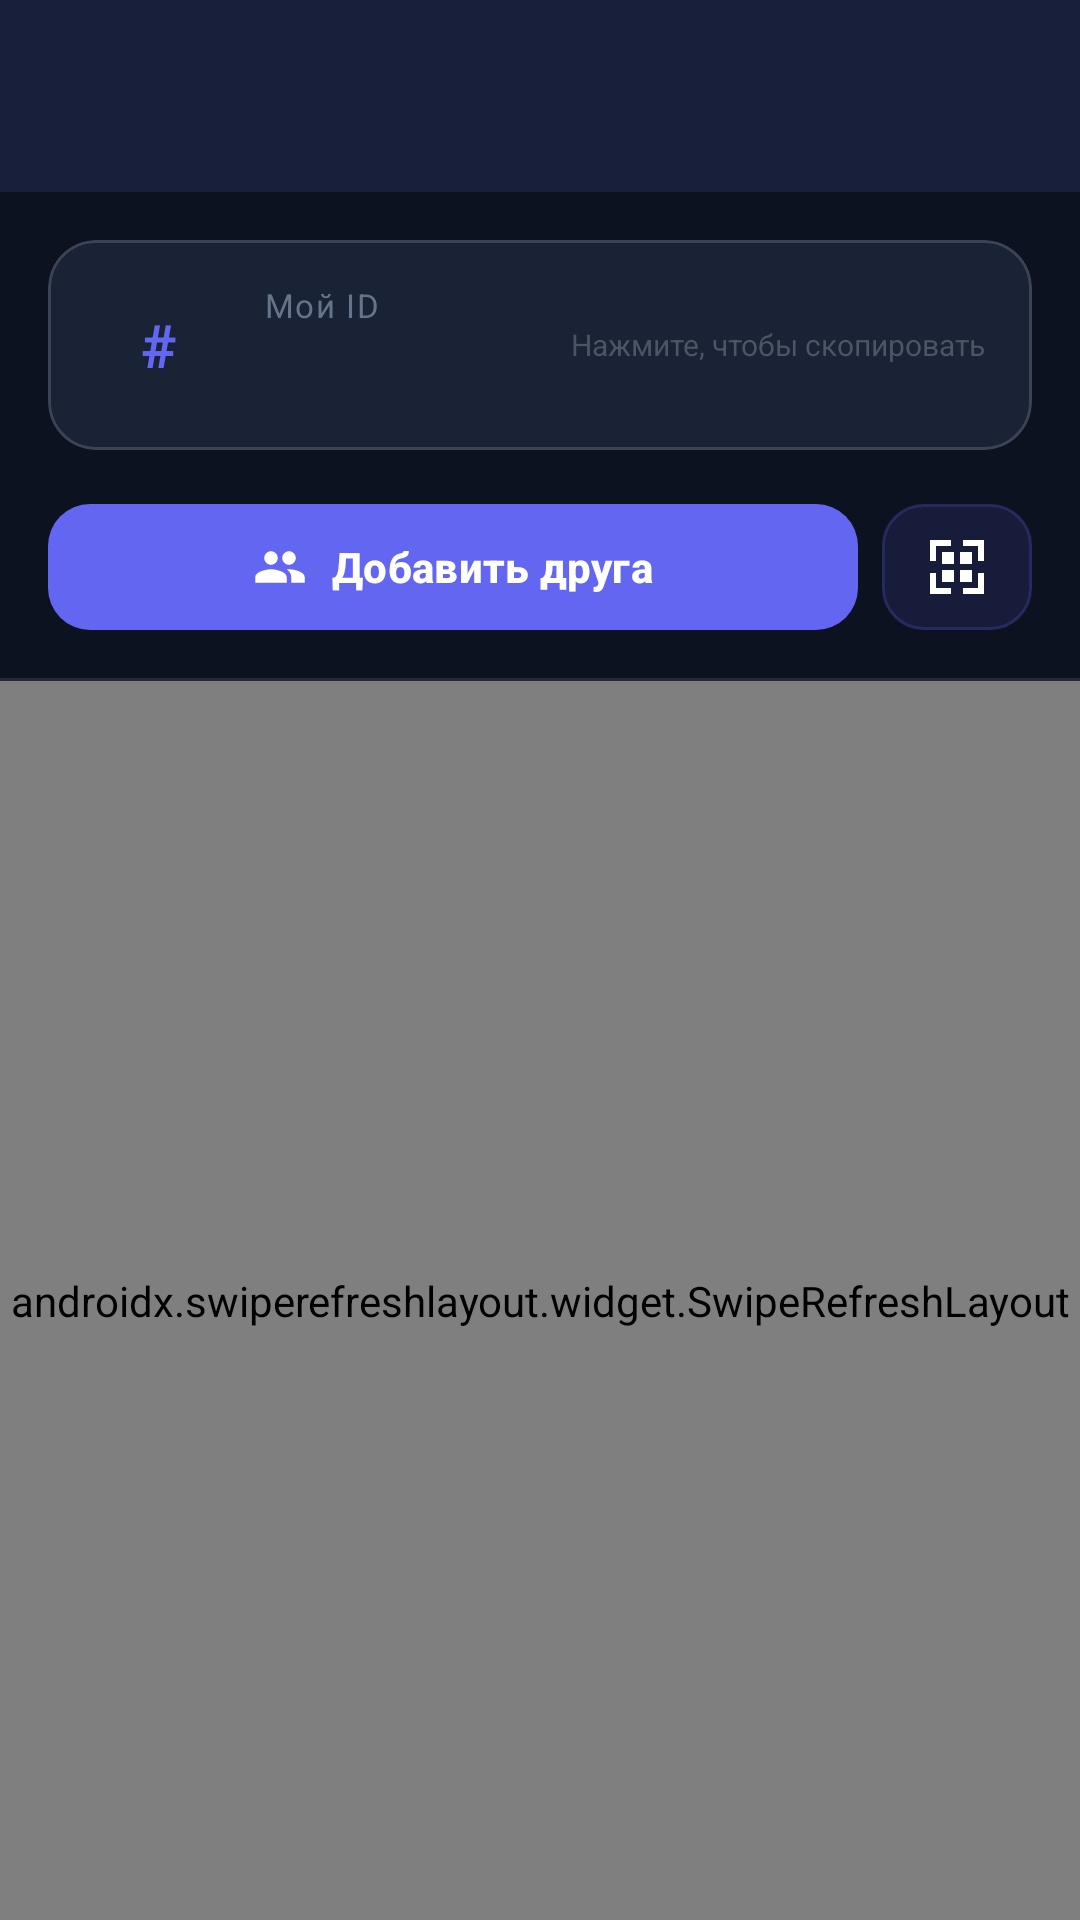

Icon bounding boxes for this 1080 x 1920 phone screenshot, format (x1, y1, x2, y2):
Сканировать QR: (882, 504, 1032, 630)
